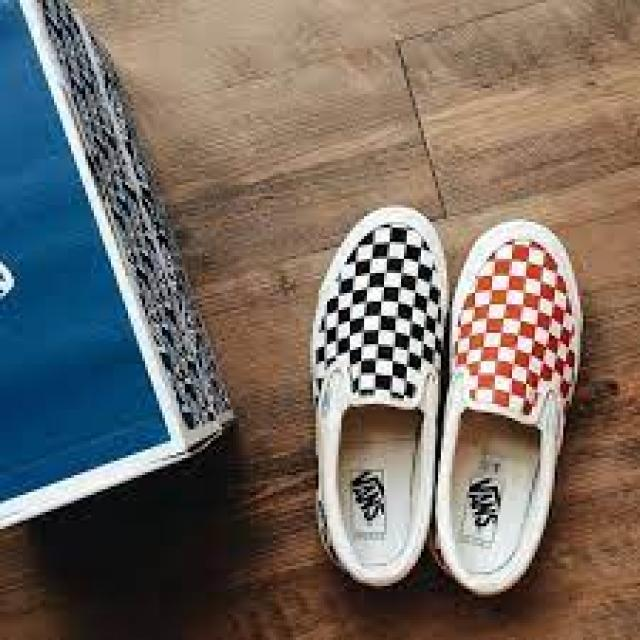shoe: (304, 196, 584, 599), (301, 199, 434, 587), (447, 213, 575, 598)
